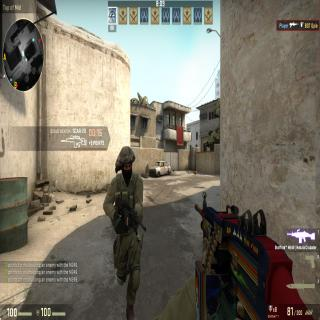CT-Body: (110, 143, 144, 320)
CT-Head: (118, 144, 136, 184)
